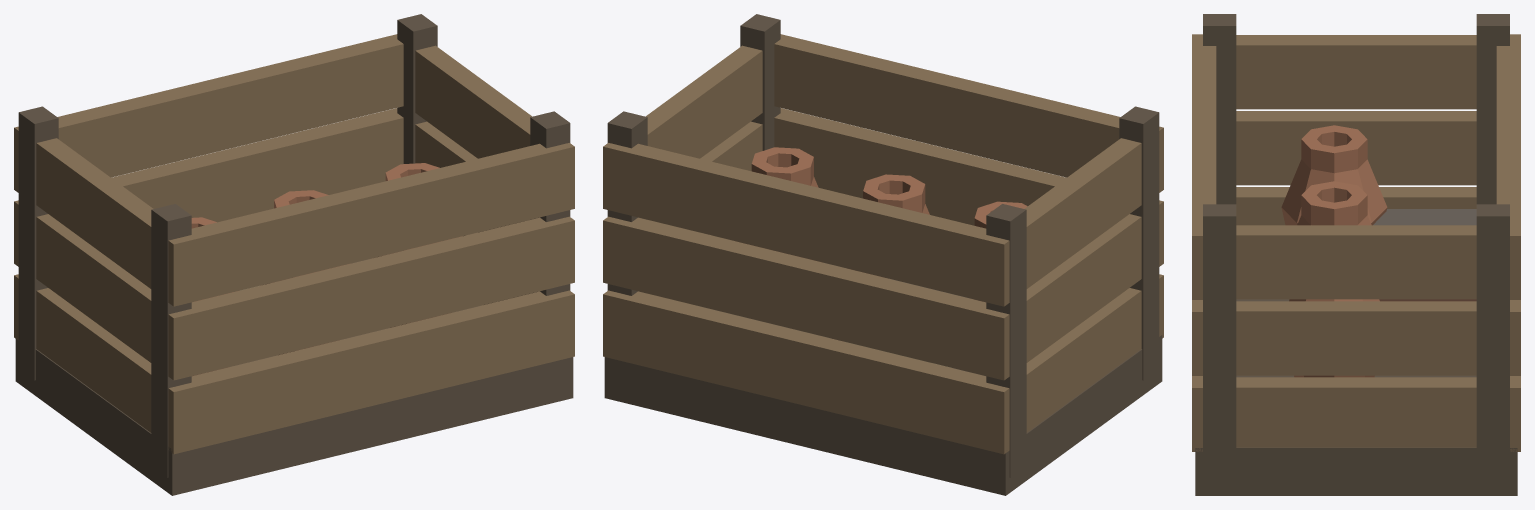
File: DG_Crate_OpenSupplies.fbx
3 renders of one model, left to right at view 1: azimuth 30°, elevation 25°; view 2: azimuth 150°, elevation 25°; view 3: azimuth 270°, elevation 25°, orthographic. The views are drawn at different scales.
Visible parts, largest first — view 1: DG_Crate_OpenSupplies; view 2: DG_Crate_OpenSupplies; view 3: DG_Crate_OpenSupplies.
Part boxes in pixels (x1,y1,x2,y2): DG_Crate_OpenSupplies: (14, 14, 574, 495); DG_Crate_OpenSupplies: (603, 14, 1163, 495); DG_Crate_OpenSupplies: (1192, 14, 1520, 495).
Bounding box in the file's own units: 1.09 × 0.7 × 0.745.
